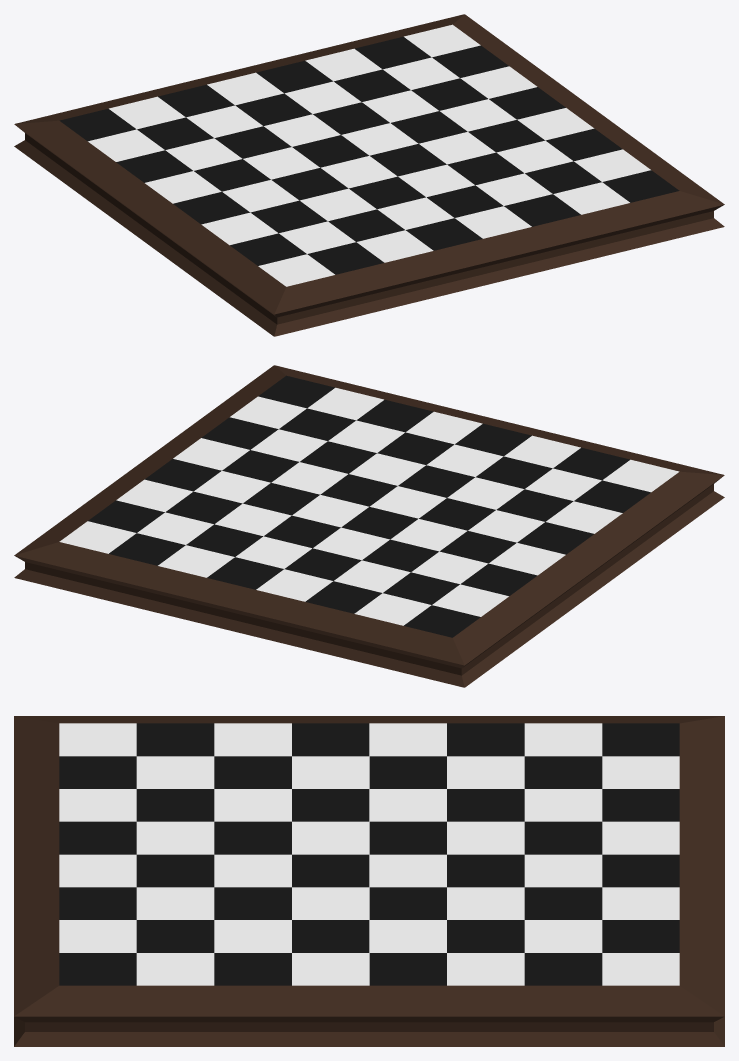
File: chessboard.glb
The picture shows the model from 3 angles, top to bottom: view 1: azimuth 30°, elevation 25°; view 2: azimuth 150°, elevation 25°; view 3: azimuth 270°, elevation 25°; orthographic projection. The views are drawn at different scales.
Parts seen in each view (by area): view 1: ChessBoard; view 2: ChessBoard; view 3: ChessBoard.
Boxes of the visible parts, box(x1,y1,x2,y2) form: ChessBoard: box(14, 14, 724, 336); ChessBoard: box(14, 365, 724, 687); ChessBoard: box(14, 716, 724, 1046).
Size of the model in its own units: 0.55 by 0.036 by 0.55.
